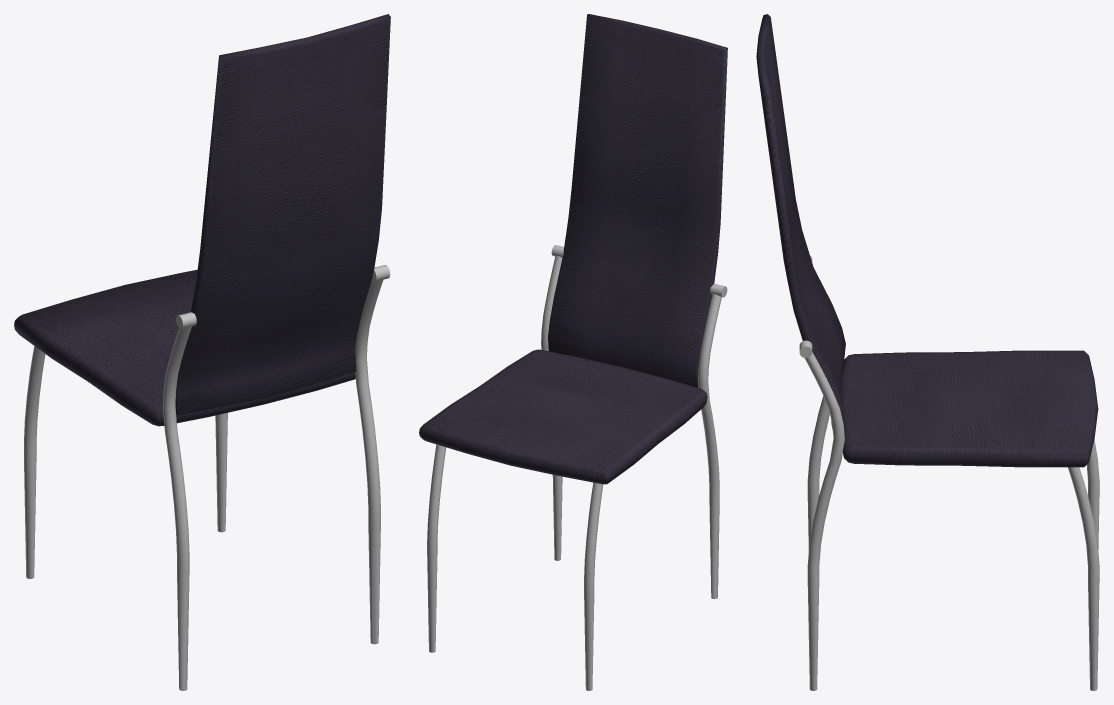
Rendered from chair_A_c02.fbx.
3 views of the same model, side by side, from view 1: azimuth 30°, elevation 25°; view 2: azimuth 150°, elevation 25°; view 3: azimuth 270°, elevation 25° (orthographic). The views are drawn at different scales.
Visible parts, largest first — view 1: chair_A_c02; view 2: chair_A_c02; view 3: chair_A_c02.
Part boxes in pixels (x1,y1,x2,y2): chair_A_c02: (14,14,390,690); chair_A_c02: (419,14,727,690); chair_A_c02: (756,14,1099,690).
Size of the model in its own units: 39.04 by 105 by 54.95.
2 materials, 1 textured.
